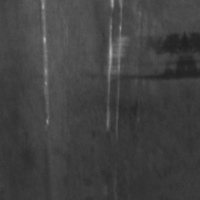inclusion: (99, 32, 187, 84)
scratches: (96, 0, 134, 137), (34, 0, 57, 126)
